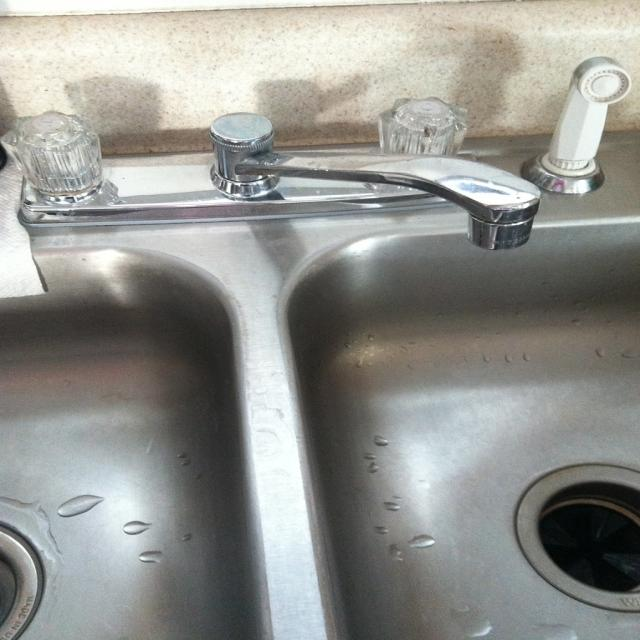Metal: (113, 156, 637, 640)
Plastics: (551, 51, 633, 162)
